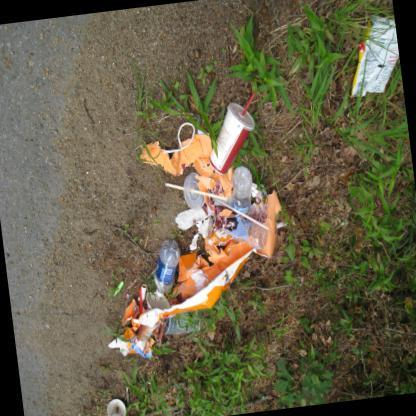Garbage: (115, 194, 253, 338), (166, 86, 296, 192), (155, 152, 262, 268), (322, 10, 404, 117), (116, 274, 166, 378), (228, 175, 286, 256)
